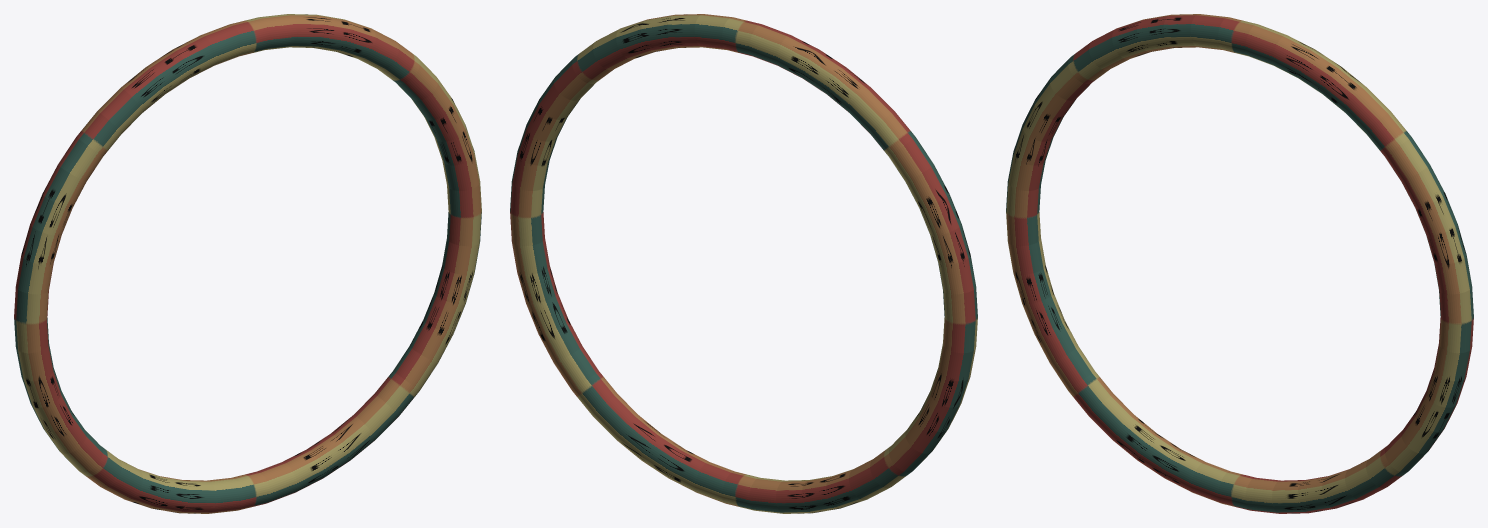
The model's file is texture_torus_R30_r0.glb.
3 views of the same model, side by side, from view 1: azimuth 30°, elevation 25°; view 2: azimuth 150°, elevation 25°; view 3: azimuth 330°, elevation 25° (orthographic).
Parts seen in each view (by area): view 1: world; view 2: world; view 3: world.
Part boxes in pixels (x1,y1,x2,y2): world: [14, 14, 481, 513]; world: [510, 14, 977, 513]; world: [1006, 14, 1473, 513].
Size of the model in its own units: 32 by 31.94 by 2.
1 material, 1 textured.
